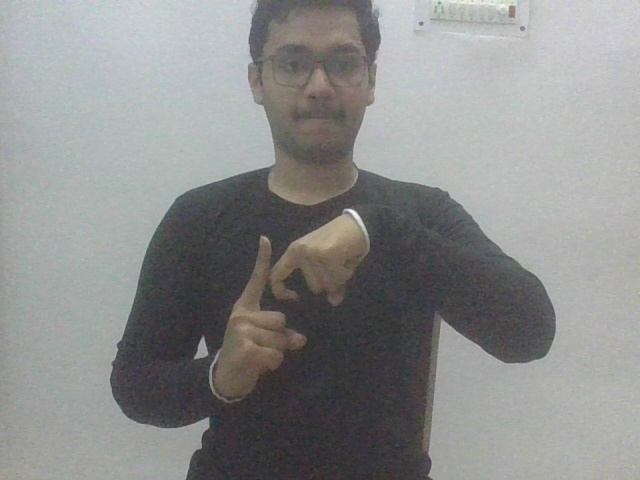K: (210, 205, 376, 406)
